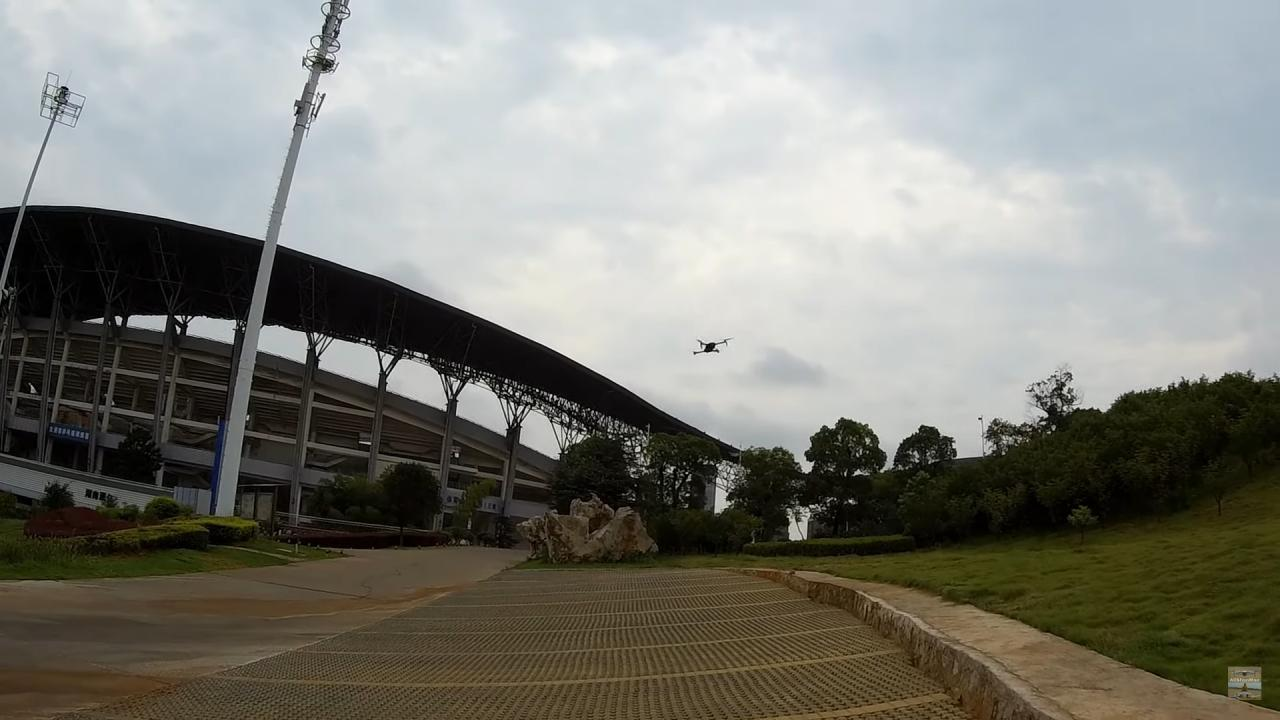Drone: (686, 330, 740, 361)
